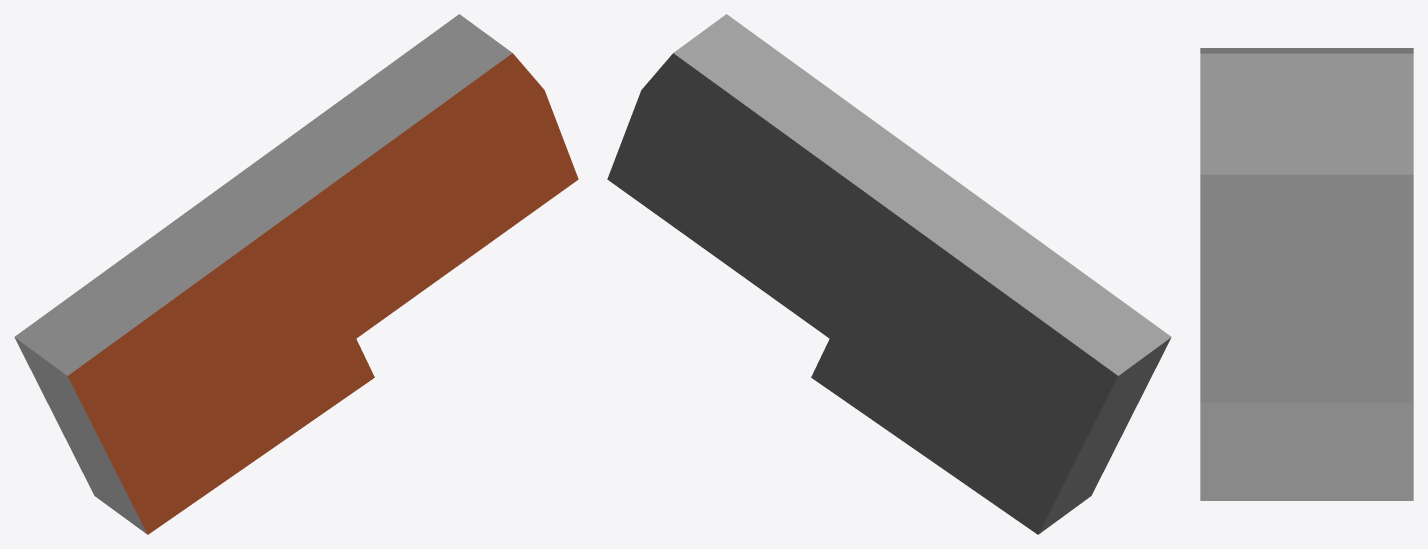
The model's file is construction_0337_assumed_A_Casa_h6m.obj.
The picture shows the model from 3 angles, left to right: view 1: azimuth 30°, elevation 25°; view 2: azimuth 150°, elevation 25°; view 3: azimuth 270°, elevation 25°; orthographic projection. The views are drawn at different scales.
Parts seen in each view (by area): view 1: construction_0337_assumed_A_Casa; view 2: construction_0337_assumed_A_Casa; view 3: construction_0337_assumed_A_Casa.
Boxes of the visible parts, <box> form: construction_0337_assumed_A_Casa: <box>14,14,578,534</box>; construction_0337_assumed_A_Casa: <box>607,14,1171,534</box>; construction_0337_assumed_A_Casa: <box>1200,48,1413,500</box>.
Size of the model in its own units: 33.18 by 24.37 by 6.
